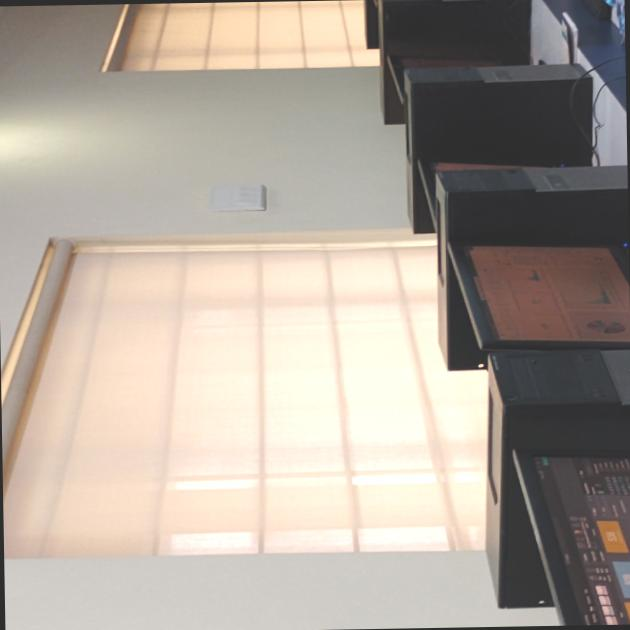windowscreen: (3, 216, 457, 570), (85, 0, 364, 83)
